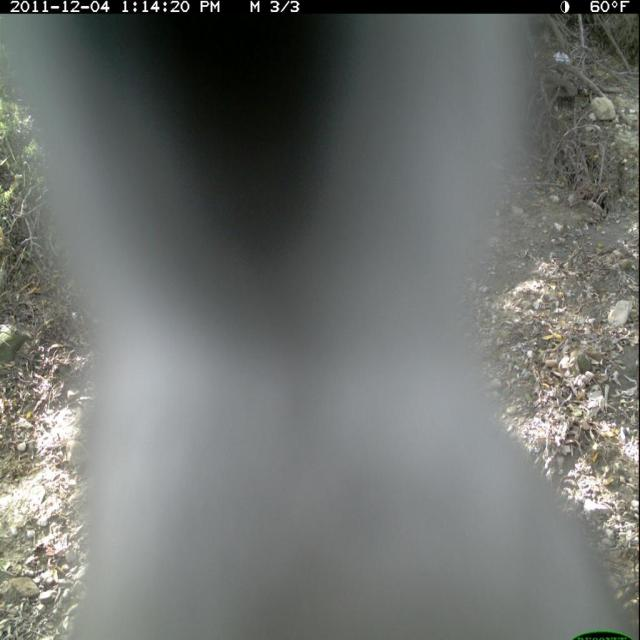bird: (2, 11, 640, 640)
